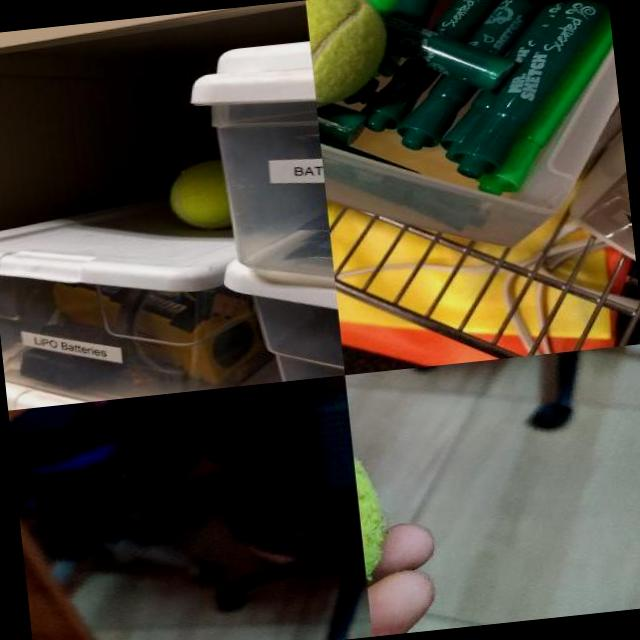Tennis Ball: (305, 0, 398, 110), (164, 157, 229, 234)
